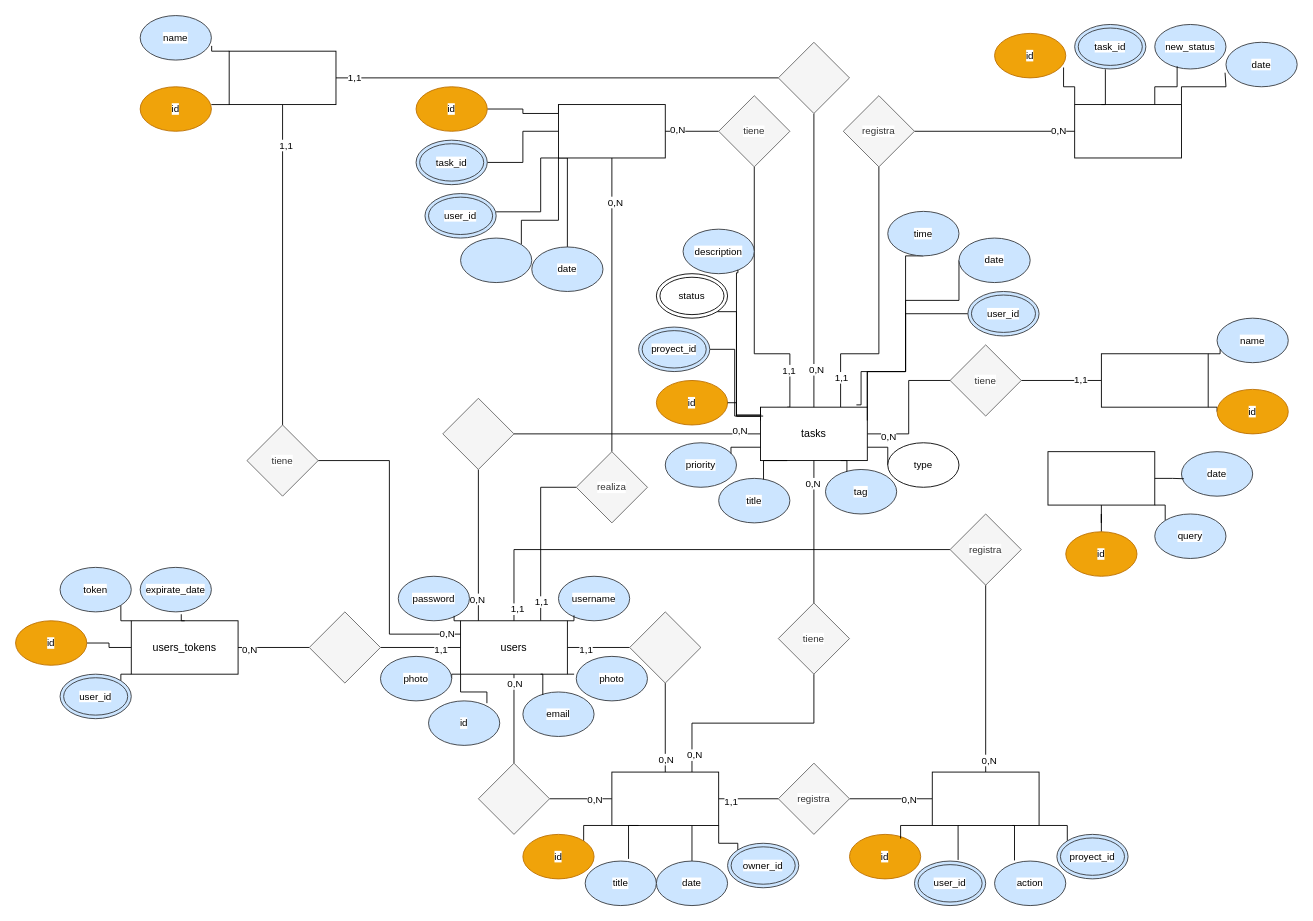
The diagram is 1313 pixels wide and 921 high, and some of its shapes have lost their labels. The centre of each missing label's shape, as x and y in pixels:
comment: the point at 496,260
comments: the point at 611,131
con: the point at 813,77
Crea: the point at 665,647
members history: the point at 985,798
proyects: the point at 665,798
query logs: the point at 1101,478
Se autentica con: the point at 344,647
tasks history: the point at 1127,131
tasks status: the point at 1154,380
tiene asignado: the point at 478,433
tiene miembros: the point at 513,798
users tasks status: the point at 282,77
